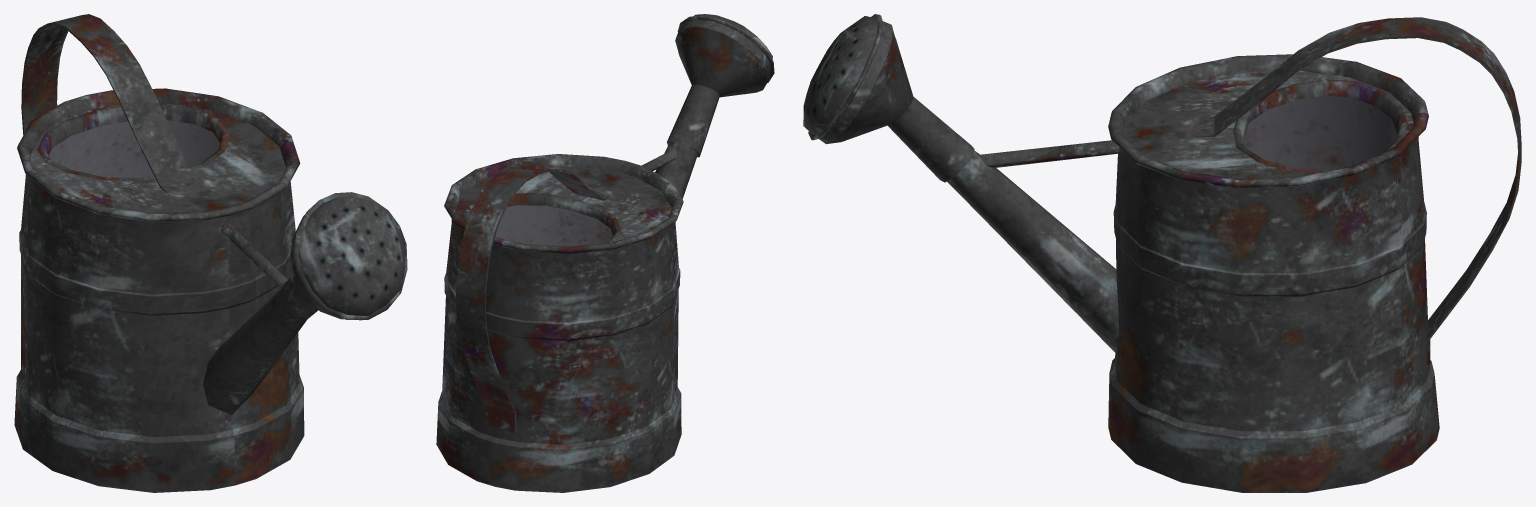
Rendered from watering_can.fbx.
3 renders of one model, left to right at view 1: azimuth 30°, elevation 25°; view 2: azimuth 150°, elevation 25°; view 3: azimuth 270°, elevation 25°, orthographic. The views are drawn at different scales.
Parts seen in each view (by area): view 1: LP_WC_02_low1; view 2: LP_WC_02_low1; view 3: LP_WC_02_low1.
Boxes of the visible parts, left/top/right/bottom form: LP_WC_02_low1: left=14, top=14, right=407, bottom=492; LP_WC_02_low1: left=436, top=14, right=774, bottom=492; LP_WC_02_low1: left=803, top=14, right=1521, bottom=492.
Size of the model in its own units: 33.32 by 48.21 by 77.37.
1 material, 1 textured.
